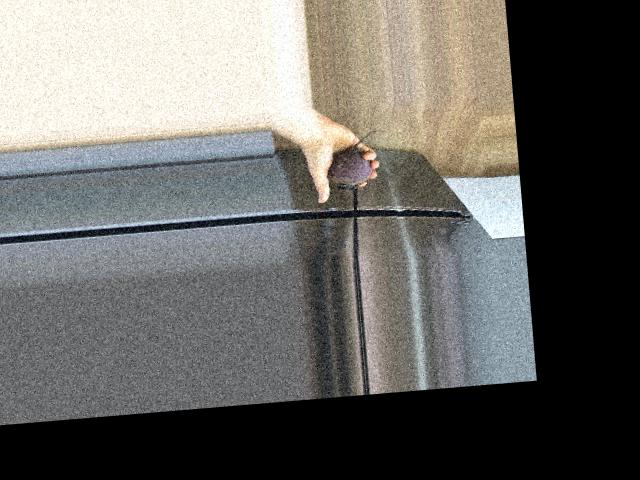beet: (325, 129, 392, 192)
